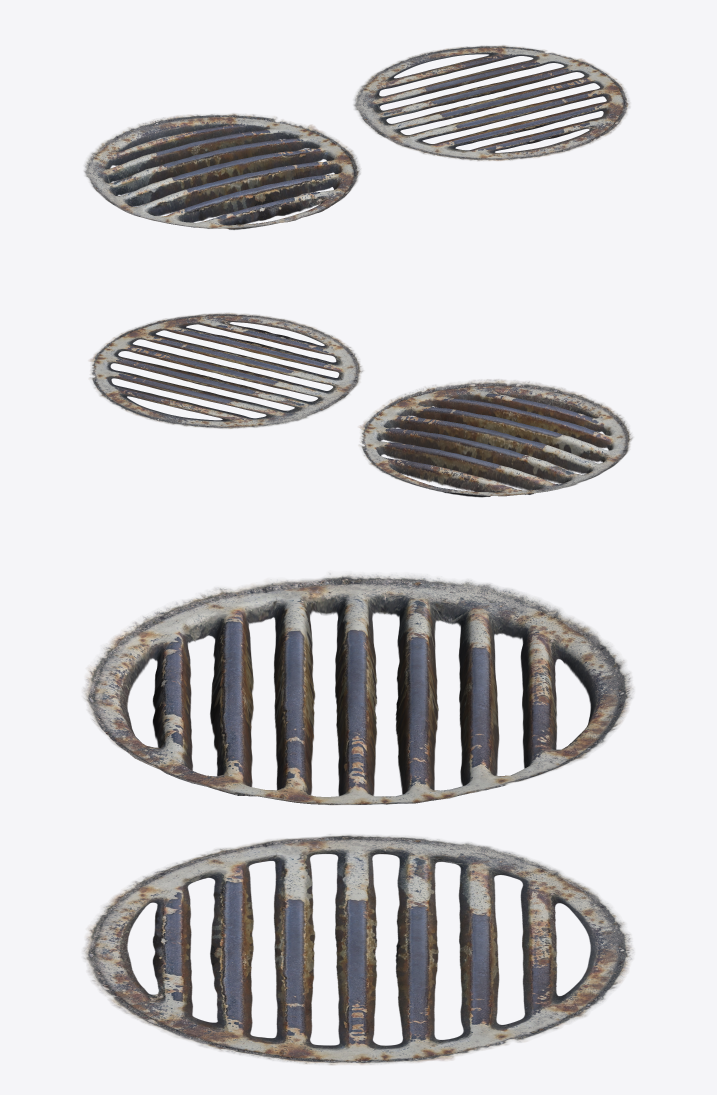
File: small_drain_cover_decal_1.glb
3 renders of one model, top to bottom at view 1: azimuth 30°, elevation 25°; view 2: azimuth 150°, elevation 25°; view 3: azimuth 270°, elevation 25°, orthographic. The views are drawn at different scales.
Visible parts, largest first — view 1: drain_cover_3D, drain_cover_decal; view 2: drain_cover_3D, drain_cover_decal; view 3: drain_cover_3D, drain_cover_decal.
Boxes of the visible parts, <box> form: drain_cover_3D: <box>83,113,360,229</box>; drain_cover_decal: <box>353,45,630,161</box>; drain_cover_3D: <box>359,379,633,497</box>; drain_cover_decal: <box>89,313,363,428</box>; drain_cover_3D: <box>83,572,633,805</box>; drain_cover_decal: <box>83,834,633,1065</box>.
Size of the model in its own units: 0.6043 by 0.0267 by 0.3.
Materials: 2 (2 with a texture image).
